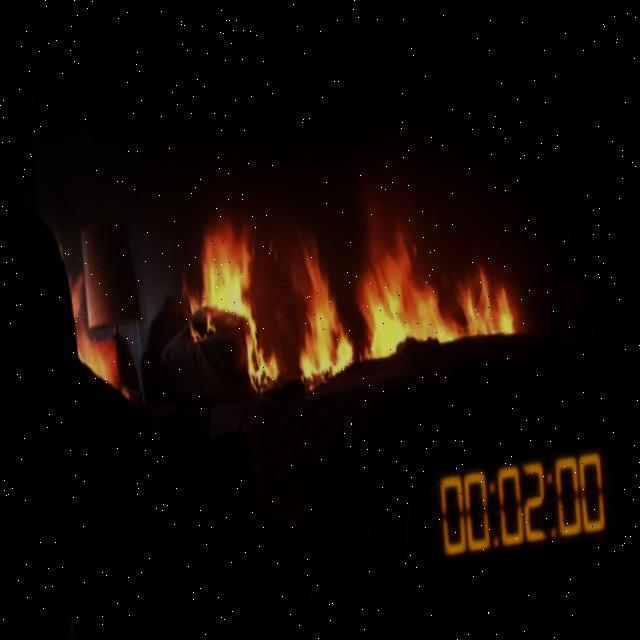Fire: (168, 178, 508, 404)
